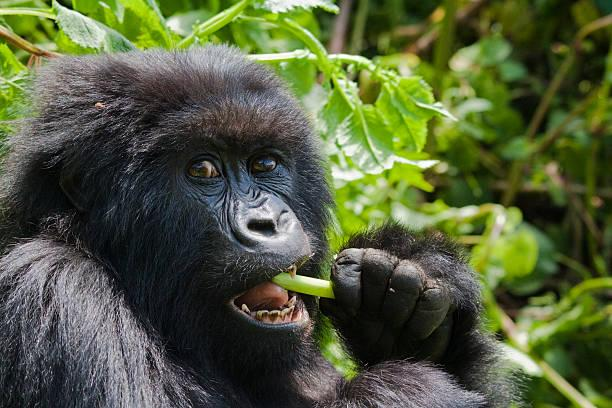goriile_montagne: (3, 29, 545, 408)
